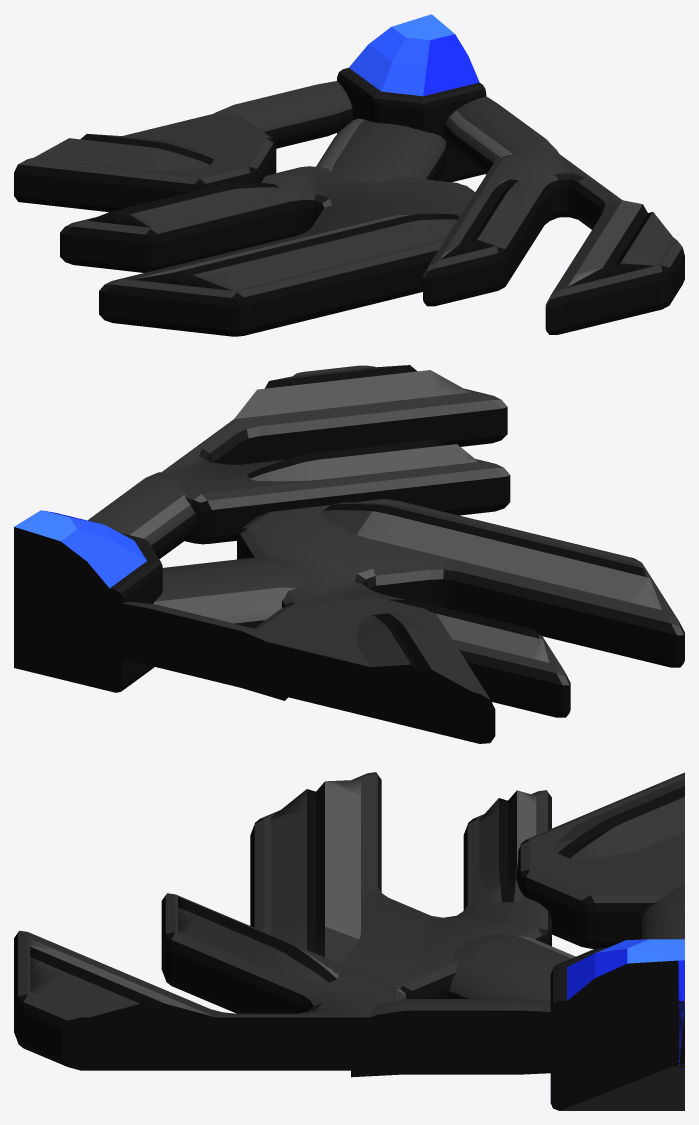
The model's file is dark_saw_267.glb.
3 renders of one model, top to bottom at view 1: azimuth 30°, elevation 25°; view 2: azimuth 150°, elevation 25°; view 3: azimuth 270°, elevation 25°, orthographic. The views are drawn at different scales.
Parts seen in each view (by area): view 1: dark_saw_267_under2_plate, dark_saw_267_arm2_plate, dark_saw_267_arm3_plate, dark_saw_267_under2_ridge0, dark_saw_267_gem, dark_saw_267_under2_rod, dark_saw_267_gem_bezel, dark_saw_267_arm3_rod, dark_saw_267_arm2_rod, dark_saw_267_arm2_ridge0, dark_saw_267_arm3_ridge0, dark_saw_267_under2_ridge1 (+1 smaller); view 2: dark_saw_267_under2_plate, dark_saw_267_arm2_plate, dark_saw_267_arm3_plate, dark_saw_267_under2_ridge0, dark_saw_267_arm3_rod, dark_saw_267_gem_bezel, dark_saw_267_gem, dark_saw_267_under2_rod, dark_saw_267_arm2_ridge0, dark_saw_267_arm2_ridge1, dark_saw_267_arm3_ridge0, dark_saw_267_arm2_rod (+1 smaller); view 3: dark_saw_267_arm2_plate, dark_saw_267_under2_plate, dark_saw_267_gem_bezel, dark_saw_267_arm2_rod, dark_saw_267_under2_ridge0, dark_saw_267_arm3_plate, dark_saw_267_gem, dark_saw_267_arm2_ridge0, dark_saw_267_under2_rod, dark_saw_267_arm3_ridge0, dark_saw_267_arm2_ridge1, dark_saw_267_under2_ridge1 (+1 smaller).
Boxes of the visible parts, x1,y1,x2,y2 form: dark_saw_267_under2_plate: (60,166,474,336); dark_saw_267_arm2_plate: (423,153,684,334); dark_saw_267_arm3_plate: (14,114,276,211); dark_saw_267_under2_ridge0: (133,212,459,290); dark_saw_267_gem: (349,14,479,96); dark_saw_267_under2_rod: (316,118,447,182); dark_saw_267_gem_bezel: (337,67,486,182); dark_saw_267_arm3_rod: (214,81,353,148); dark_saw_267_arm2_rod: (443,96,559,174); dark_saw_267_arm2_ridge0: (568,200,673,286); dark_saw_267_arm3_ridge0: (34,134,214,170); dark_saw_267_under2_ridge1: (88,183,279,227); dark_saw_267_under2_plate: (237,498,684,717); dark_saw_267_arm2_plate: (161,365,510,544); dark_saw_267_arm3_plate: (237,596,495,743); dark_saw_267_under2_ridge0: (322,502,661,609); dark_saw_267_arm3_rod: (83,597,287,700); dark_saw_267_gem_bezel: (14,533,162,692); dark_saw_267_gem: (14,510,146,629); dark_saw_267_under2_rod: (153,557,304,628); dark_saw_267_arm2_ridge0: (234,365,469,418); dark_saw_267_arm2_ridge1: (247,439,478,481); dark_saw_267_arm3_ridge0: (356,613,478,702); dark_saw_267_arm2_rod: (88,472,197,558); dark_saw_267_arm2_plate: (14,893,409,1070); dark_saw_267_under2_plate: (250,772,551,998); dark_saw_267_gem_bezel: (550,947,684,1110); dark_saw_267_arm2_rod: (351,999,599,1077); dark_saw_267_under2_ridge0: (271,779,360,962); dark_saw_267_arm3_plate: (516,772,684,948); dark_saw_267_gem: (563,939,684,1069); dark_saw_267_arm2_ridge0: (30,939,227,1026); dark_saw_267_under2_rod: (447,934,575,1001); dark_saw_267_arm3_ridge0: (553,778,684,860); dark_saw_267_arm2_ridge1: (178,897,338,982); dark_saw_267_under2_ridge1: (479,790,536,902).
Bounding box in the file's own units: 21.97 × 5.62 × 22.7.
